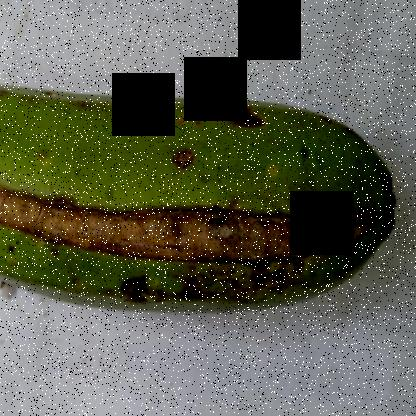rotten: (0, 157, 394, 273)
